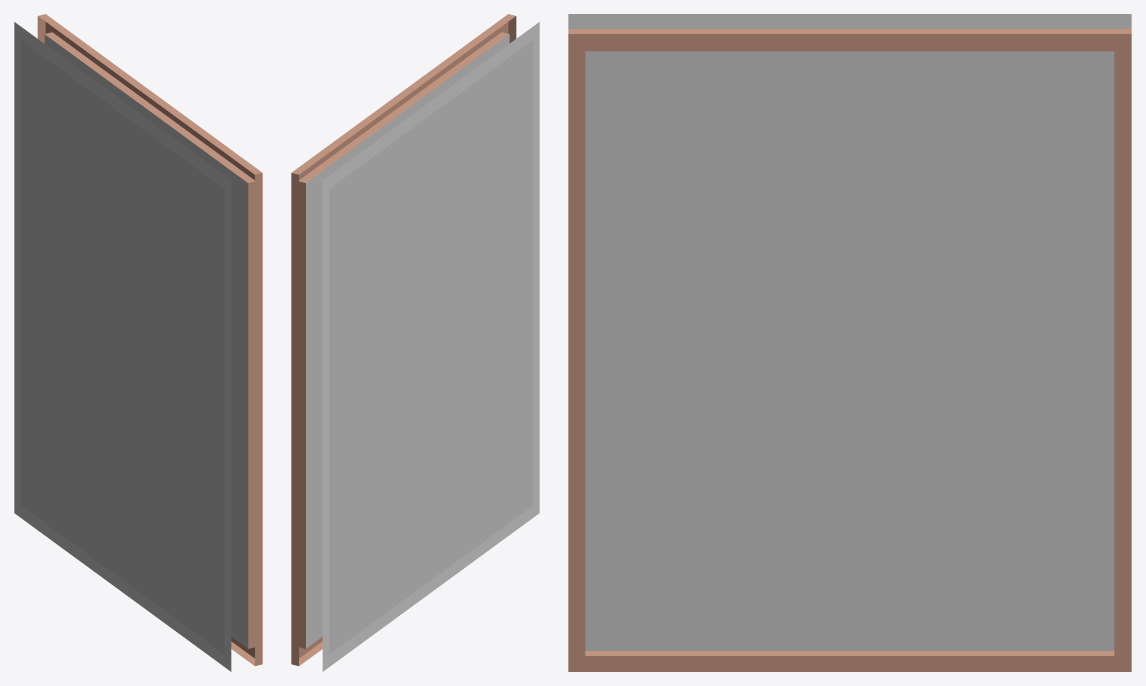
File: Jendela.fbx
3 renders of one model, left to right at view 1: azimuth 30°, elevation 25°; view 2: azimuth 150°, elevation 25°; view 3: azimuth 270°, elevation 25°, orthographic. The views are drawn at different scales.
Visible parts, largest first — view 1: Plane.003; view 2: Plane.003; view 3: Plane.003.
Part boxes in pixels (box(x1,y1,x2,y2)): Plane.003: box(14, 14, 262, 671); Plane.003: box(291, 14, 539, 671); Plane.003: box(568, 14, 1131, 671).
Size of the model in its own units: 66.3 by 990 by 793.
